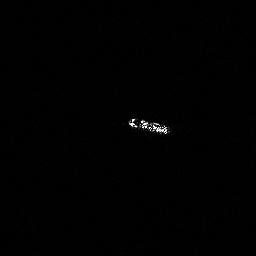ship: (129, 117, 171, 137)
